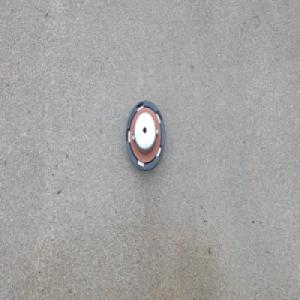FuelCap: (123, 98, 166, 173)
